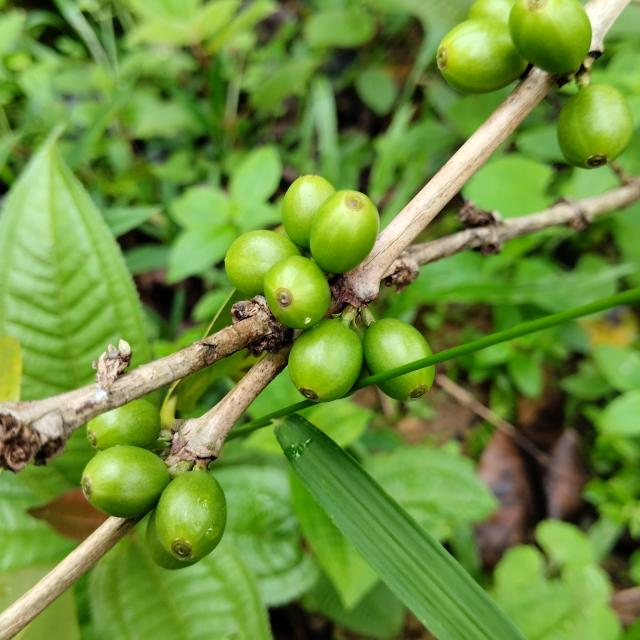green: (437, 18, 529, 93), (80, 446, 170, 519), (558, 82, 634, 168), (155, 471, 226, 561), (288, 319, 364, 402), (510, 0, 593, 73), (310, 190, 379, 273), (225, 230, 301, 296), (264, 255, 331, 329), (282, 174, 335, 249), (363, 319, 433, 375), (86, 399, 160, 451), (145, 509, 200, 571), (378, 366, 435, 401)
